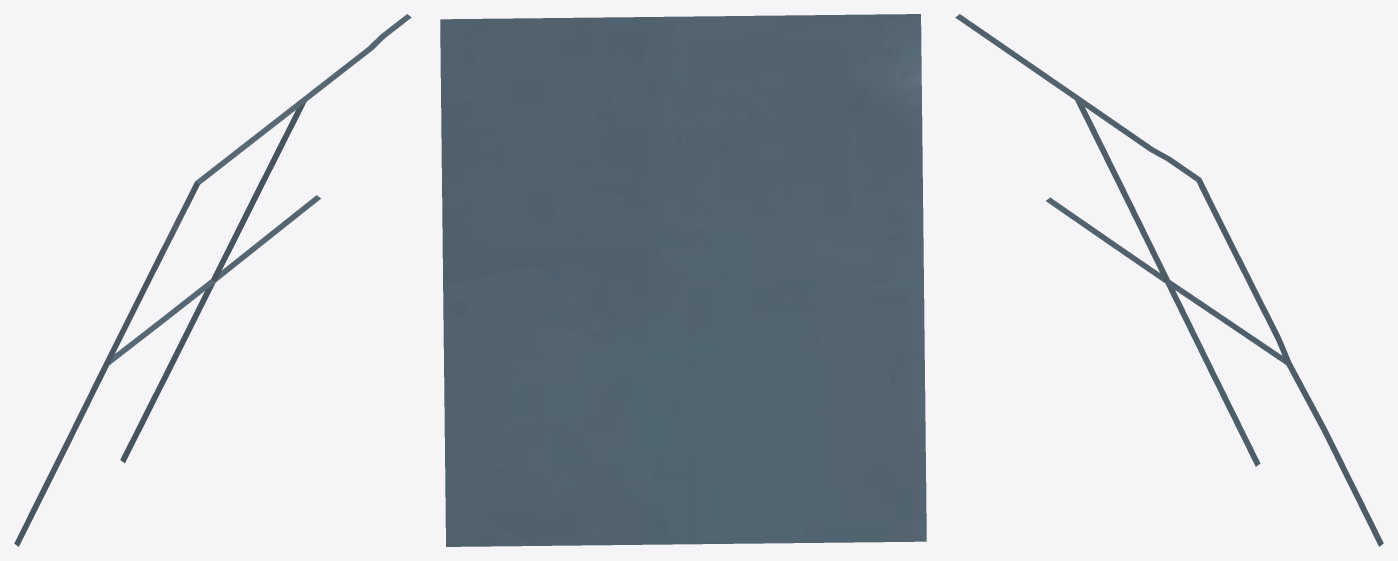
3 views of the same model, side by side, from view 1: azimuth 30°, elevation 25°; view 2: azimuth 150°, elevation 25°; view 3: azimuth 270°, elevation 25° (orthographic). The views are drawn at different scales.
Size of the model in its own units: 152 by 139 by 130.
1 material, 1 textured.
